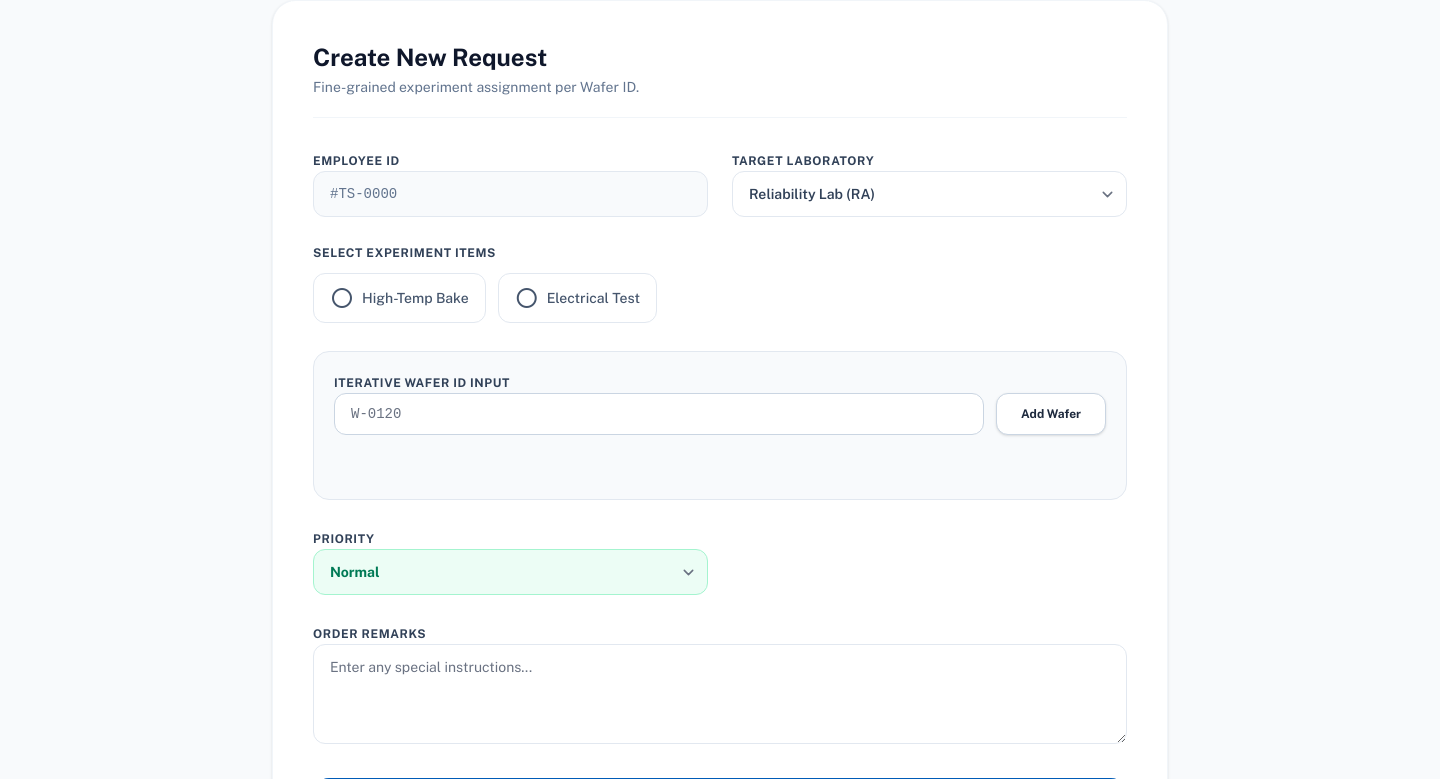
Test: FabRequestView - Enterprise Order Provisioning Testing Suite › should handle wafer input validation and case-insensitivity (w vs W)
Step 1. Type "invalid-id" into the field with placeholder "W-0120" → coordinates (659, 414), box [334,393,984,435]
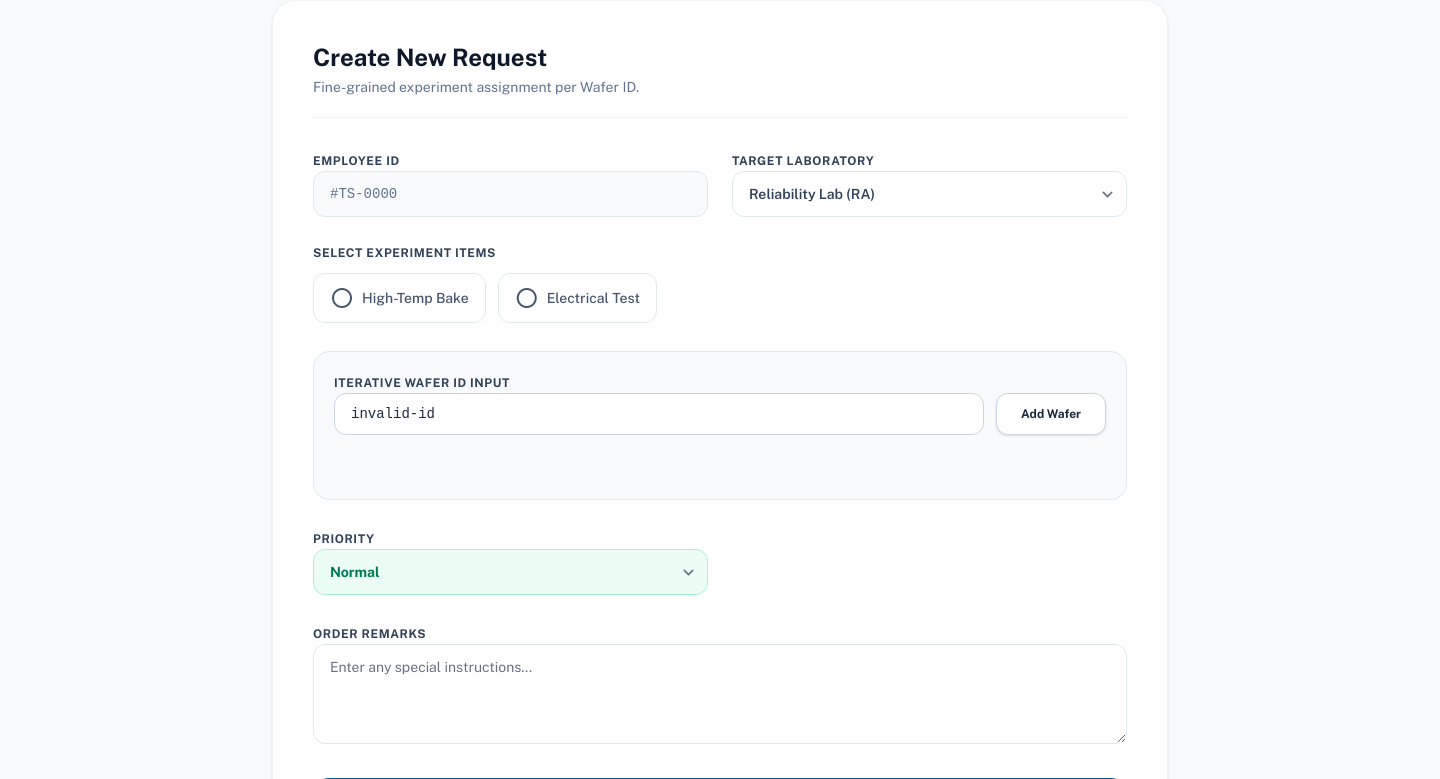
Step 2. Click the button "Add Wafer" → coordinates (1051, 414), box [996,393,1106,435]
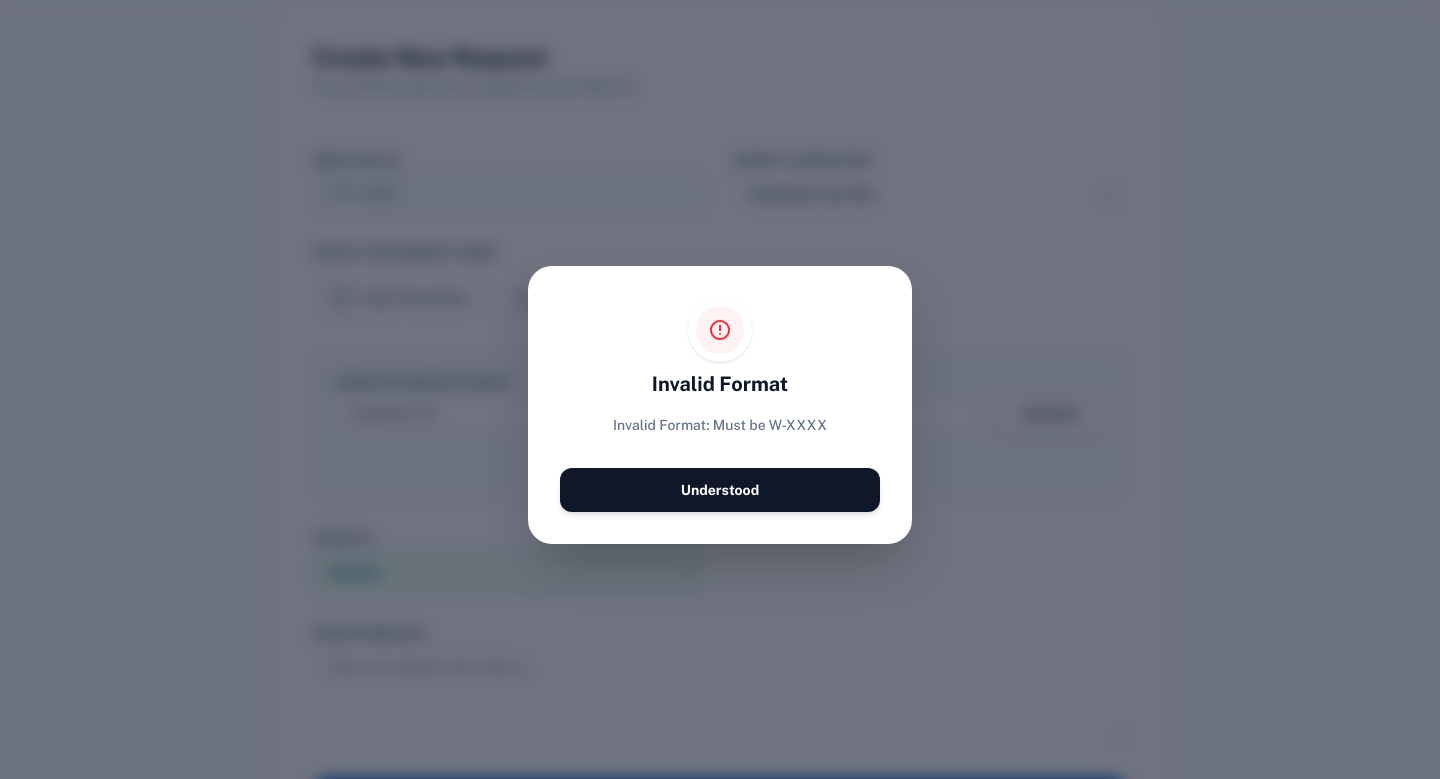
Check: the heading "Invalid Format" is shown, box [652,372,788,396]
Step 3. Click the button "Understood" → coordinates (720, 490), box [560,468,880,512]
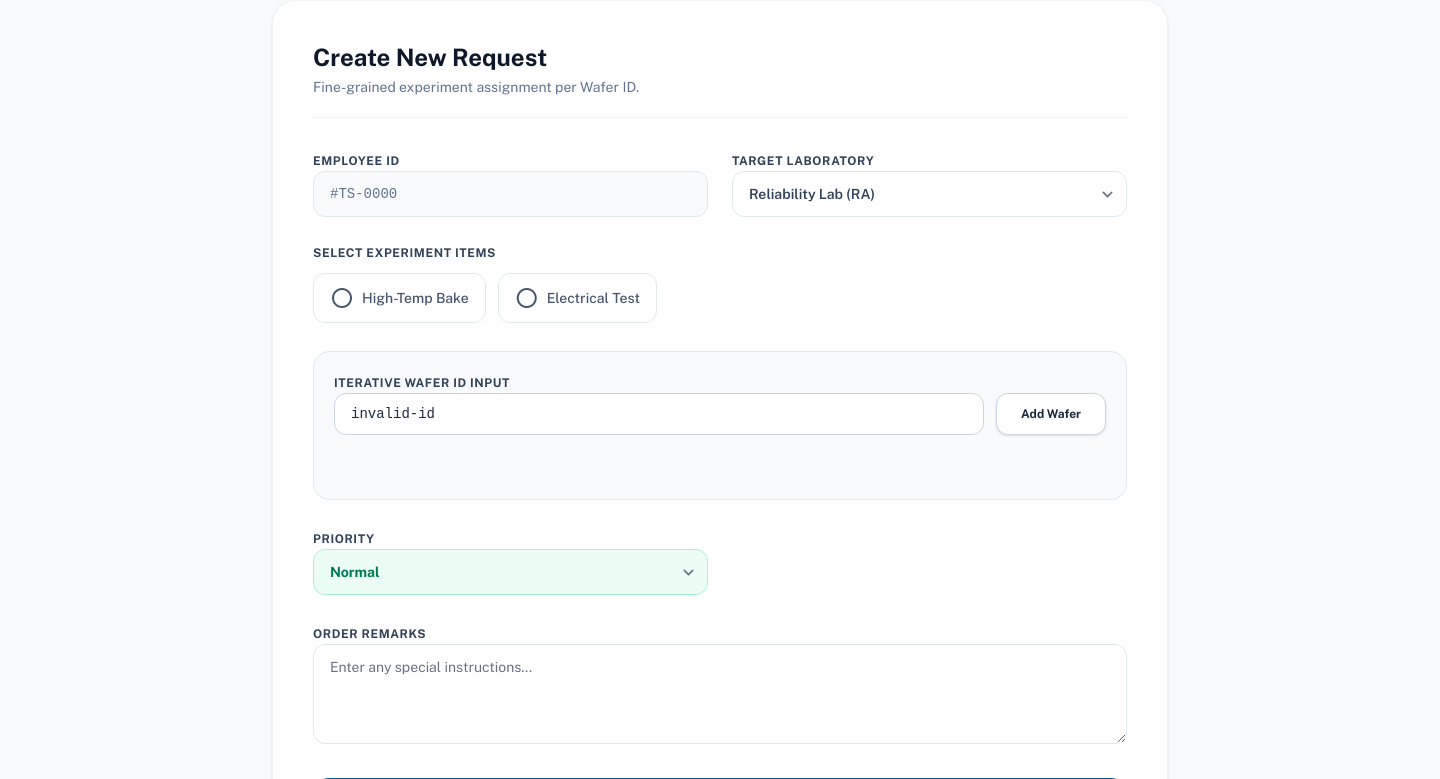
Step 4. Replace the text in the field with placeholder "W-0120" with "w-1234" → coordinates (659, 414), box [334,393,984,435]
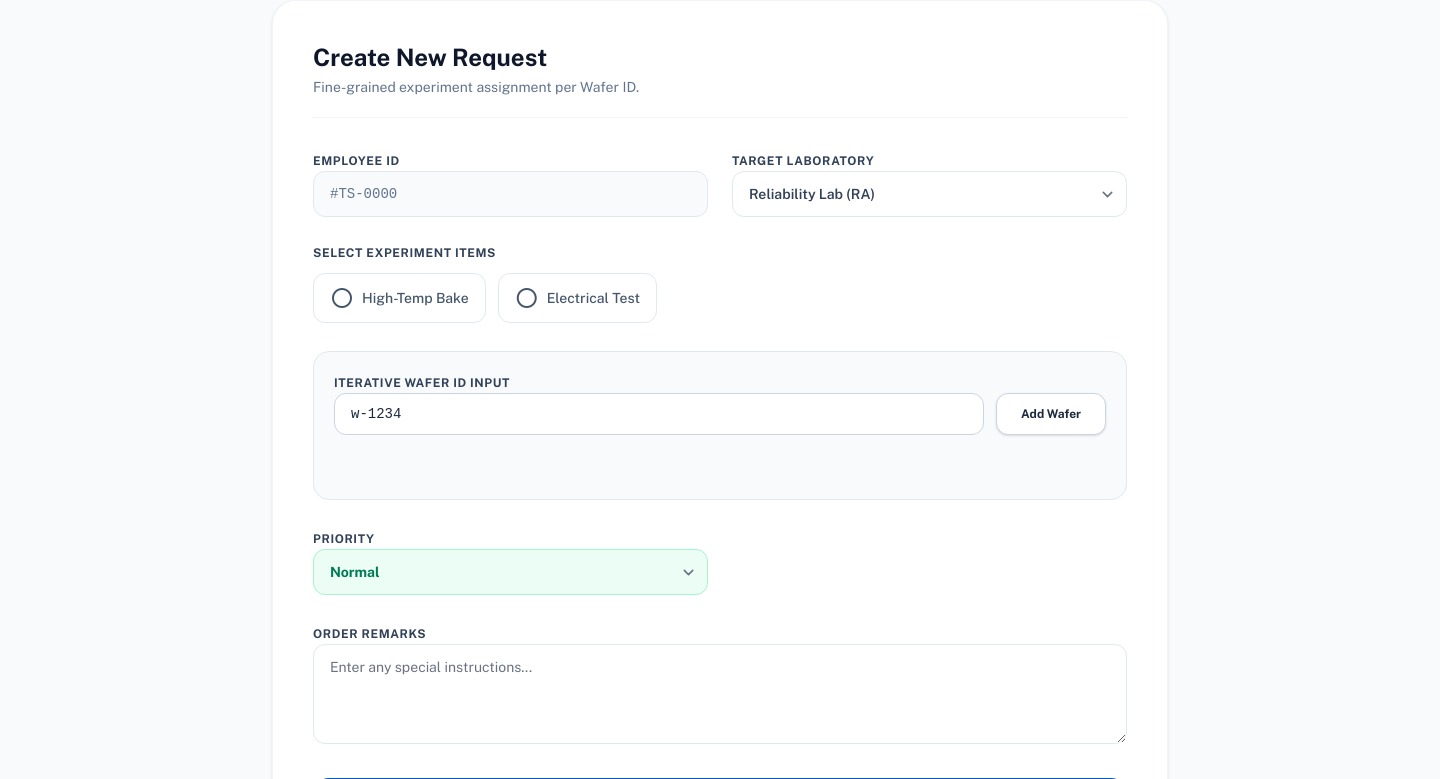
Step 5. Click the button "Add Wafer" → coordinates (1051, 414), box [996,393,1106,435]
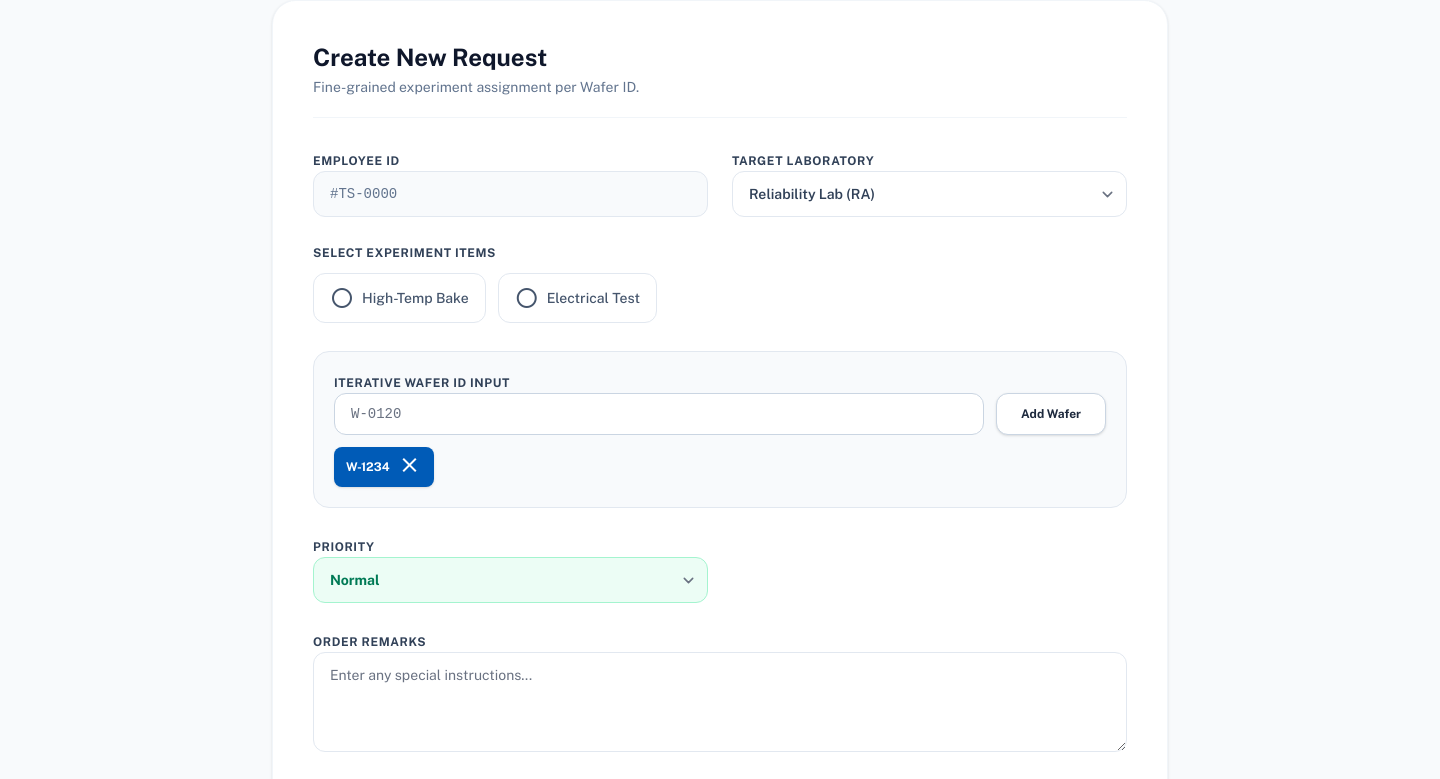
Check: the text "W-1234" is shown, box [334,447,434,487]
